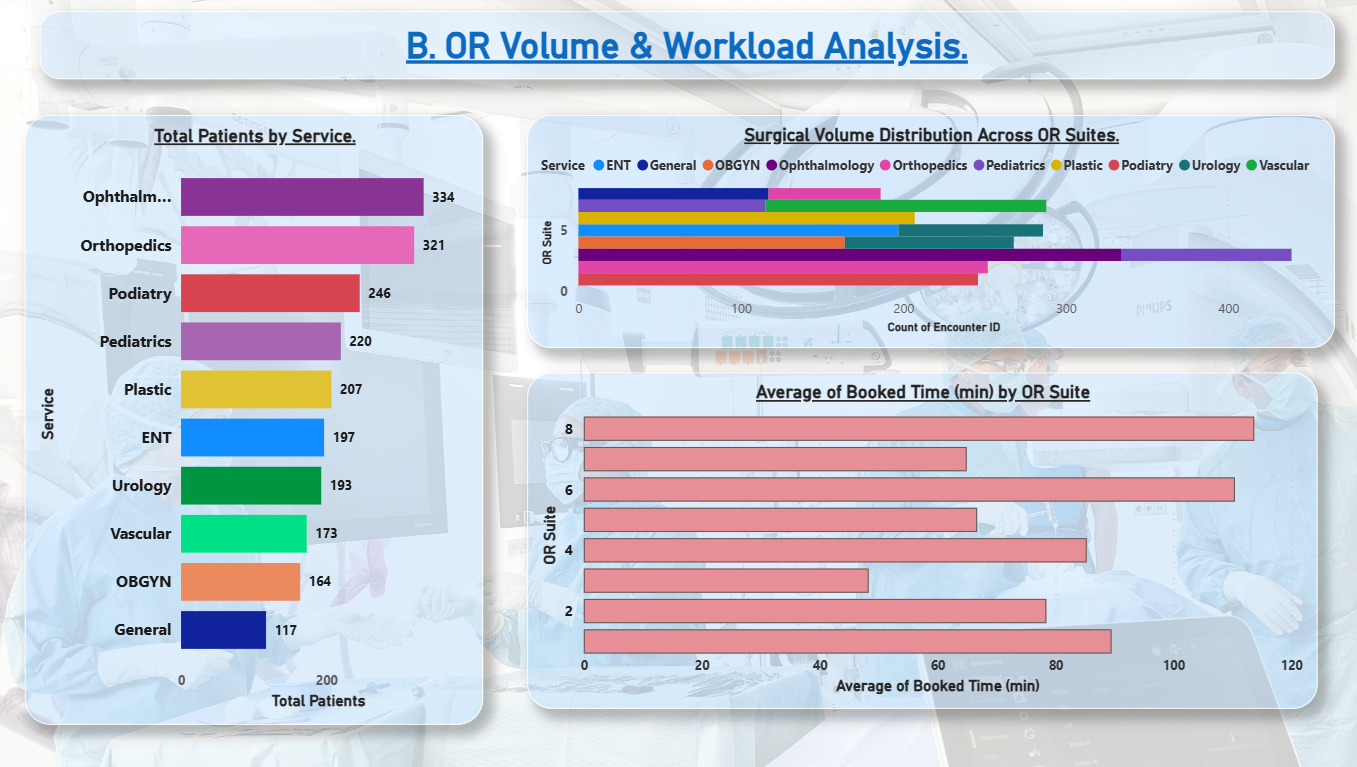

This screenshot's page, from the dashboard's own definition file:
{"tool":"powerbi","page":{"name":"OR Volume and Workload Analysis","canvas":[1280,720],"ordinal":1},"visuals":[{"type":"image","box":[0,0,1280.3,720.2],"z":0},{"type":"textbox","box":[45.2,14.7,1204.5,63.6],"z":1000},{"type":"barChart","title":"Surgical Volume Distribution Across OR Suites.","fields":{"Category":["2022_Q1.OR Suite"],"Series":["2022_Q1.Service"],"Y":["CountNonNull(2022_Q1.Encounter ID)"]},"box":[498.9,111.3,750.8,216.4],"z":2000},{"type":"barChart","title":"Total Patients by Service.","fields":{"Category":["2022_Q1.Service"],"Y":["CountNonNull(2022_Q1.Encounter ID)"]},"box":[31.8,111.3,426.8,567.4],"z":3000},{"type":"clusteredBarChart","fields":{"Category":["2022_Q1.OR Suite"],"Y":["Avg(2022_Q1.Booked Time (min))"]},"box":[498.4,351.7,735,312.5],"z":4000}]}

Visuals, with their boxes in screenshot pixels (x1, y1, x2, y2), scaled from the page's 1280x720 canvas onto the 1357x767 screenshot:
image: left=0, top=0, right=1356, bottom=766
textbox: left=48, top=16, right=1325, bottom=83
"Surgical Volume Distribution Across OR Suites." barChart: left=529, top=119, right=1325, bottom=349
"Total Patients by Service." barChart: left=34, top=119, right=486, bottom=723
clusteredBarChart - 2022_Q1.OR Suite x Avg(2022_Q1.Booked Time (min)): left=528, top=375, right=1308, bottom=708
